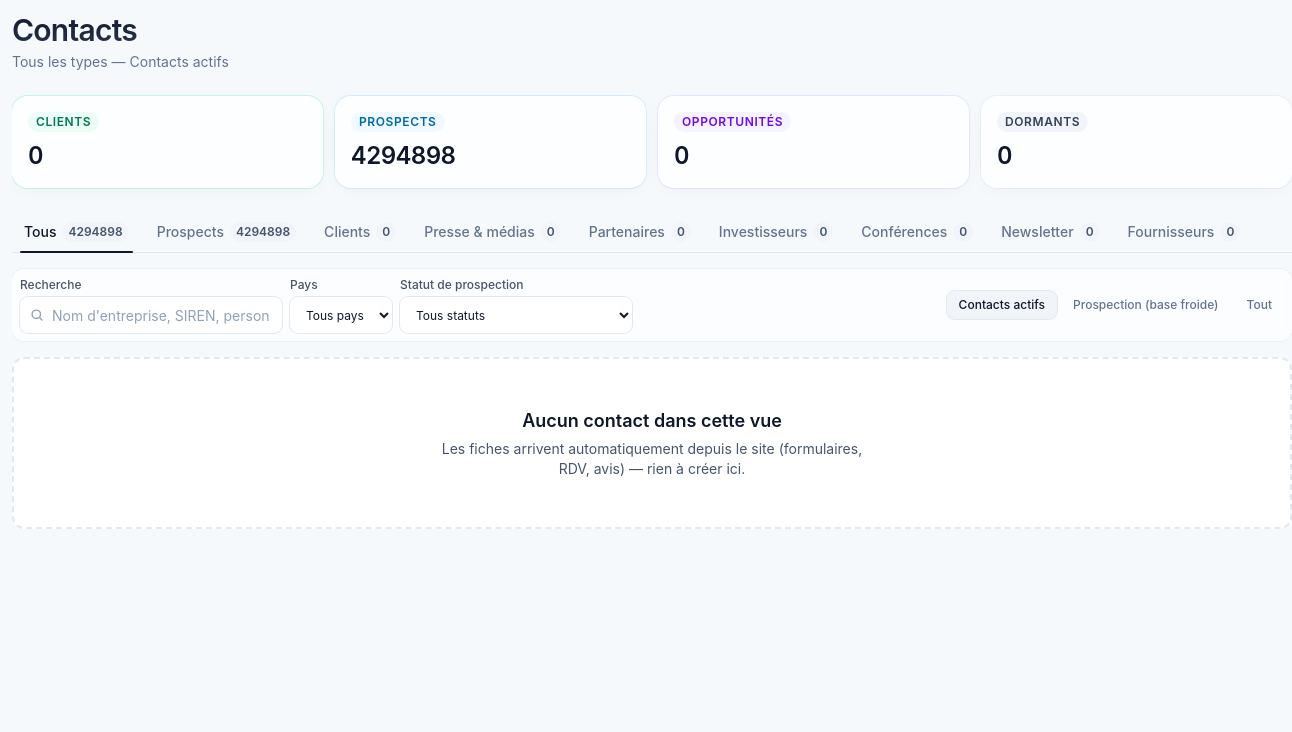
Test case: ContactsHubPage — bascule de température › affiche le squelette, et NON « aucun contact », pendant le chargement de la vue froide
Expected: the heading "Aucun contact dans cette vue" is shown, [522,407,782,435]
Click the button "Prospection (base froide)" at x=1146, y=305, box [1061,291,1230,319]
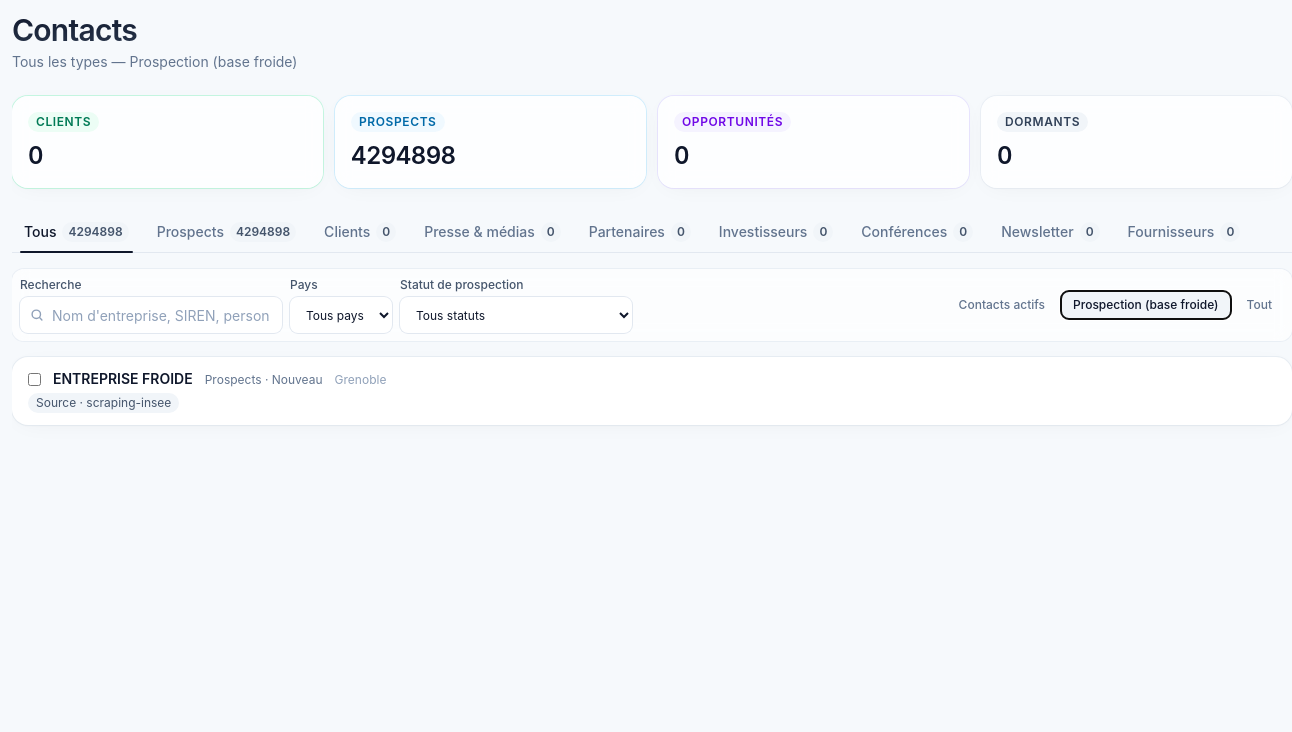
Now the heading "Aucun contact dans cette vue" is gone
Now the text "ENTREPRISE FROIDE" is shown, box [53,369,193,389]
